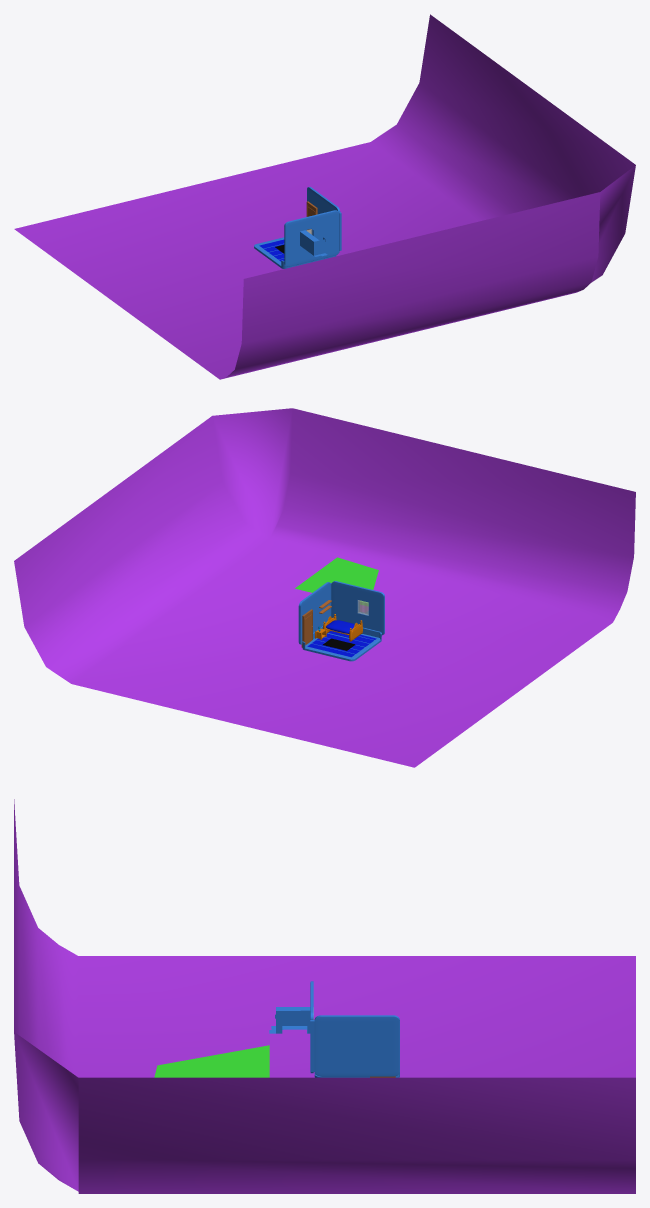
File: Room.fbx
3 views of the same model, one above another, from view 1: azimuth 30°, elevation 25°; view 2: azimuth 150°, elevation 25°; view 3: azimuth 270°, elevation 25° (orthographic). The views are drawn at different scales.
Parts seen in each view (by area): view 1: Plane.003, Cube.001, Cube; view 2: Plane.003, Cube.001, Plane.002, Cube; view 3: Plane.003, Cube.001, Plane.002.
Part boxes in pixels (x1,y1,x2,y2): Plane.003: [14, 14, 635, 379]; Cube.001: [284, 187, 341, 266]; Cube: [254, 230, 336, 268]; Plane.003: [14, 408, 635, 767]; Cube.001: [298, 581, 384, 644]; Plane.002: [295, 557, 378, 605]; Cube: [302, 626, 381, 661]; Plane.003: [14, 799, 635, 1193]; Cube.001: [269, 981, 399, 1076]; Plane.002: [154, 1045, 269, 1077].
Size of the model in its own units: 7632 by 2072 by 7299.
